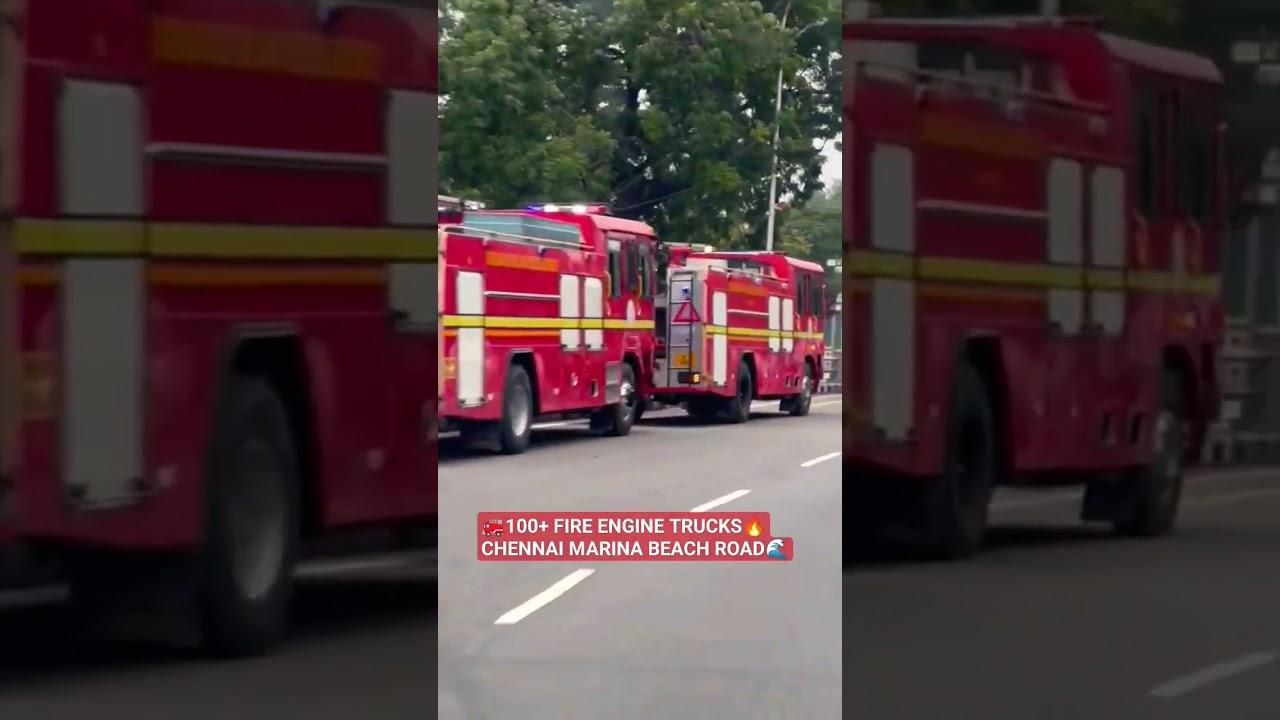Fire-engine: (446, 220, 665, 417), (673, 250, 839, 429)
